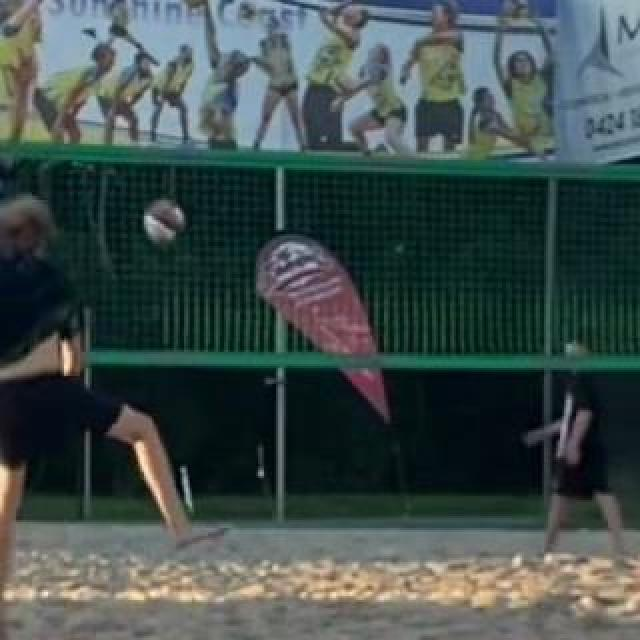volleyball: (144, 200, 184, 238)
